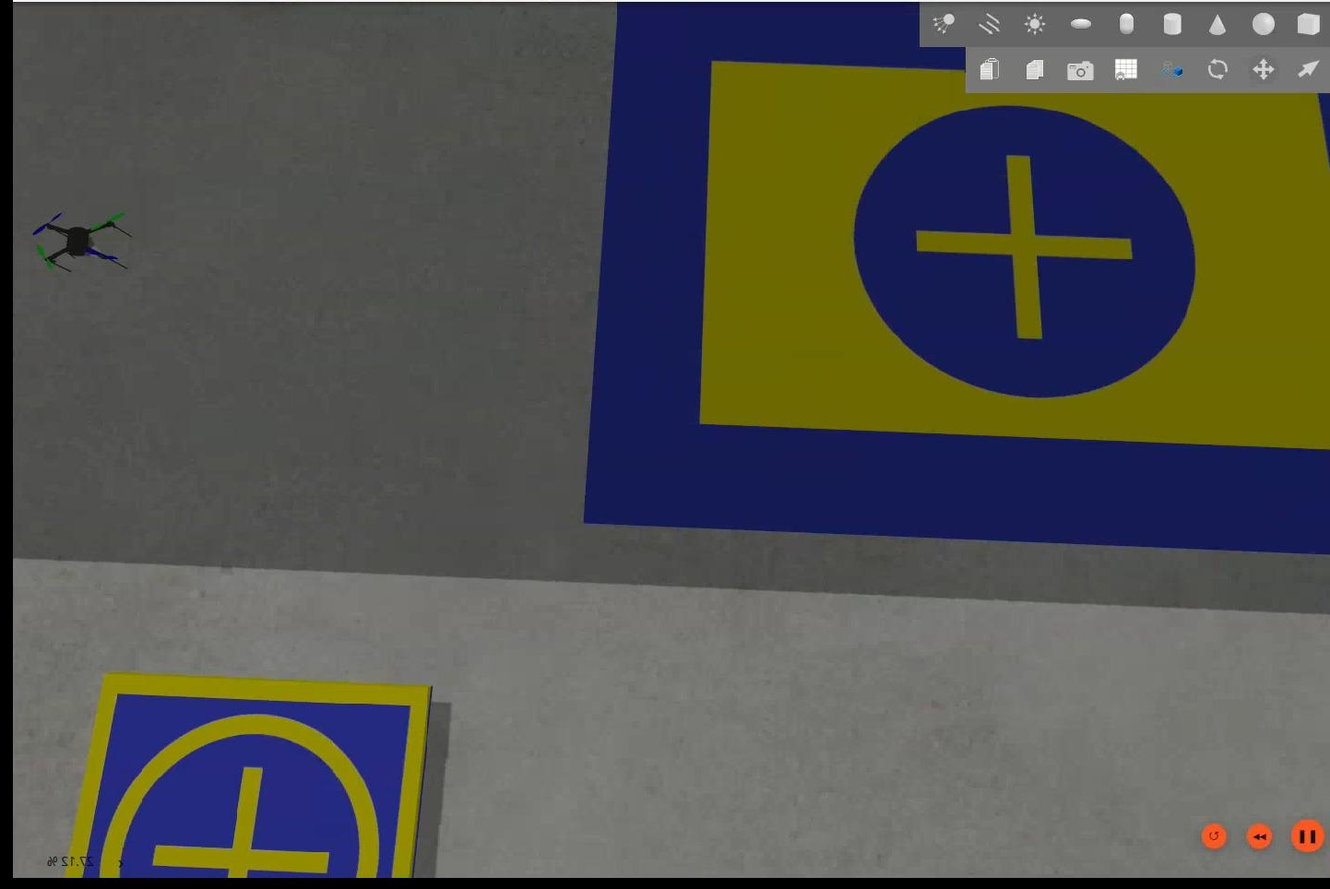large_base: (580, 1, 1328, 554)
small_base: (65, 671, 432, 878)
